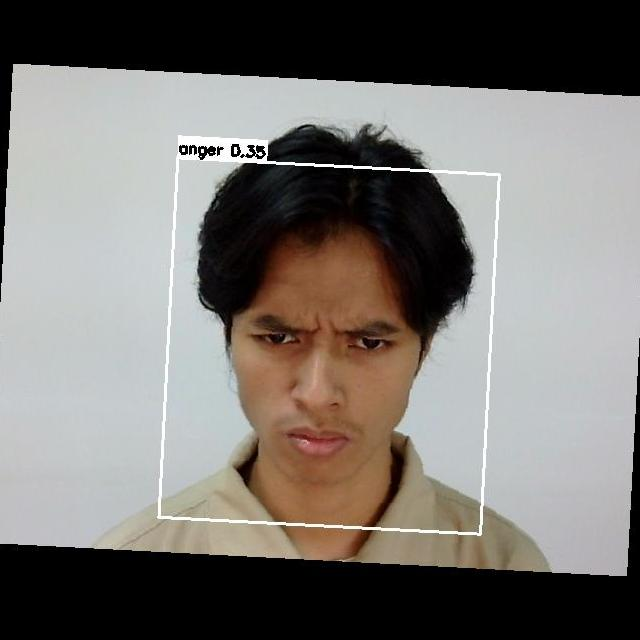Angry: (209, 280, 429, 473)
